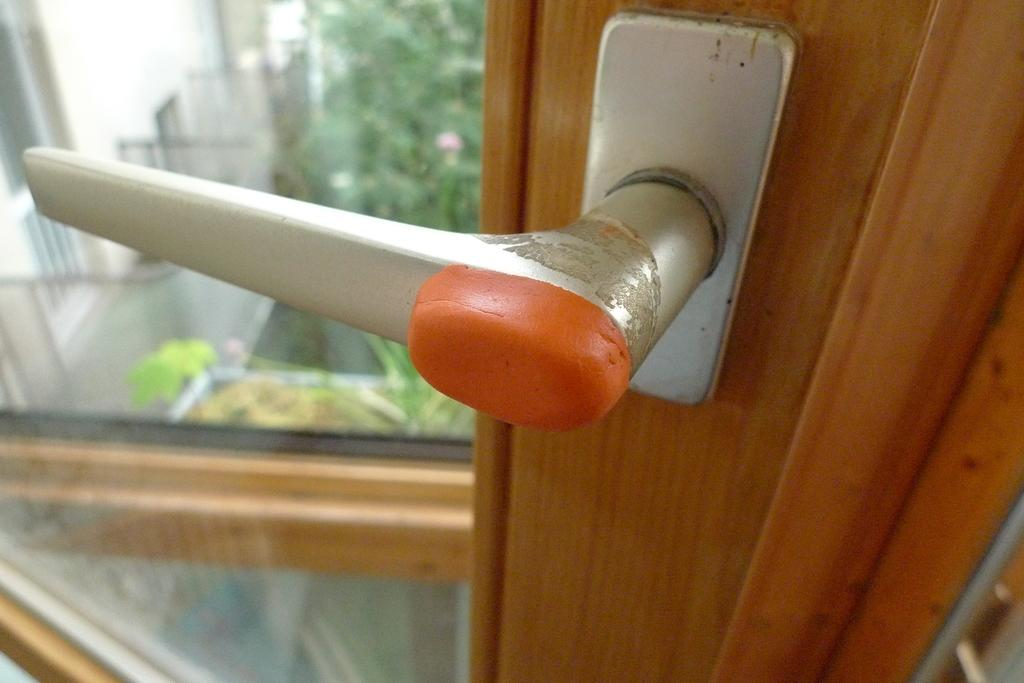handle: (29, 103, 711, 446)
